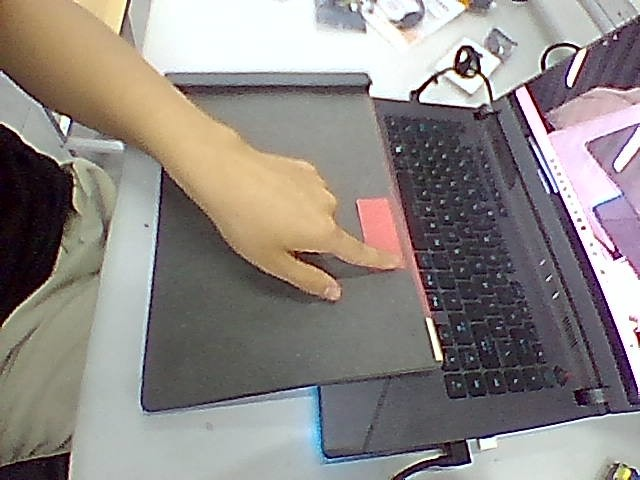card: (357, 197, 401, 254)
